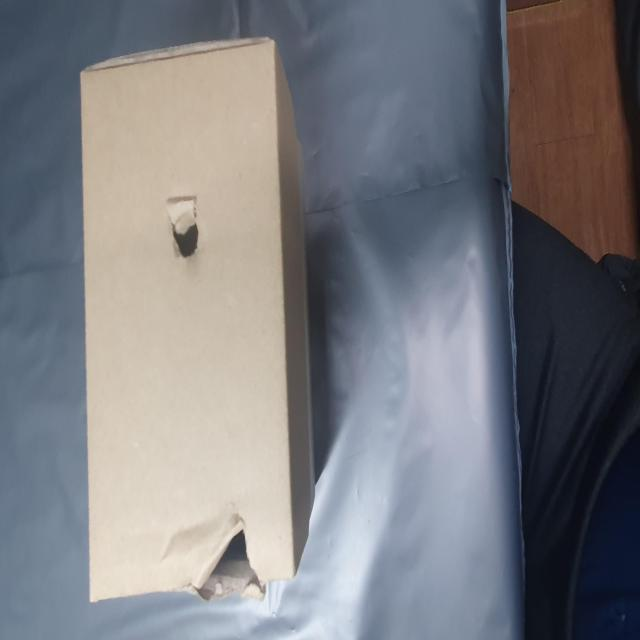damaged: (20, 353, 82, 465), (203, 291, 255, 363)
